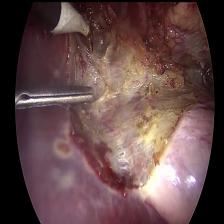Grasper: (17, 70, 101, 116)
Hook: (49, 0, 97, 57)
